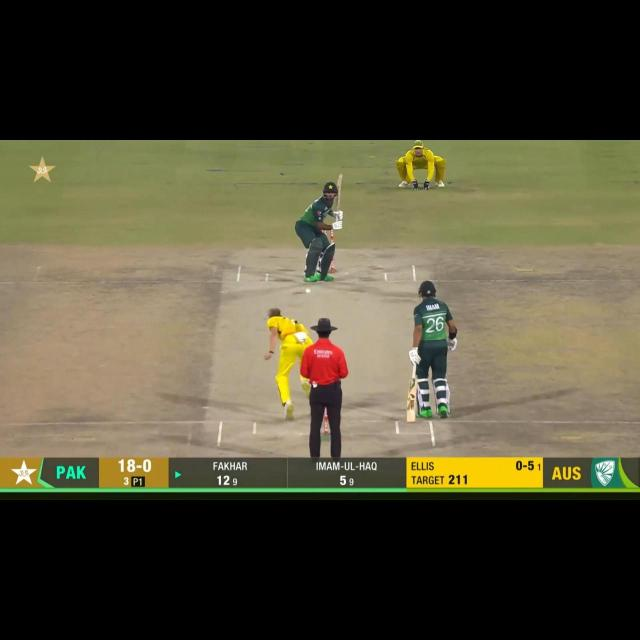bat: (406, 377, 417, 422), (335, 172, 344, 214)
toe: (406, 413, 416, 423), (338, 173, 344, 187)
